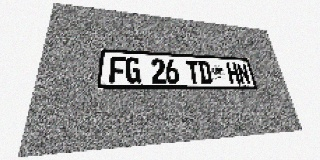2: (151, 58, 166, 84)
6: (165, 59, 180, 84)
D: (197, 61, 213, 84)
F: (109, 56, 126, 83)
G: (126, 57, 141, 83)
H: (226, 62, 241, 84)
N: (236, 63, 251, 84)
T: (186, 60, 201, 84)
